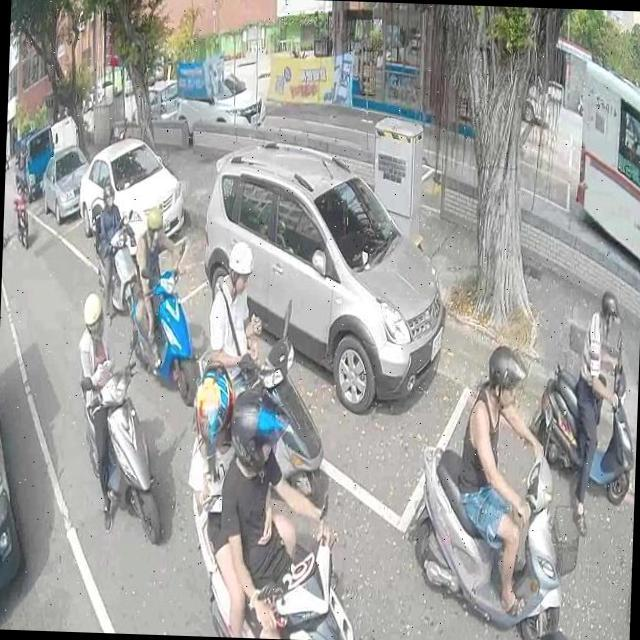person: (182, 362, 302, 640), (215, 390, 345, 640), (454, 336, 552, 624), (566, 284, 628, 526), (76, 284, 130, 532), (210, 240, 270, 408), (132, 193, 184, 368), (90, 183, 130, 318), (528, 615, 572, 640), (12, 182, 31, 236)
